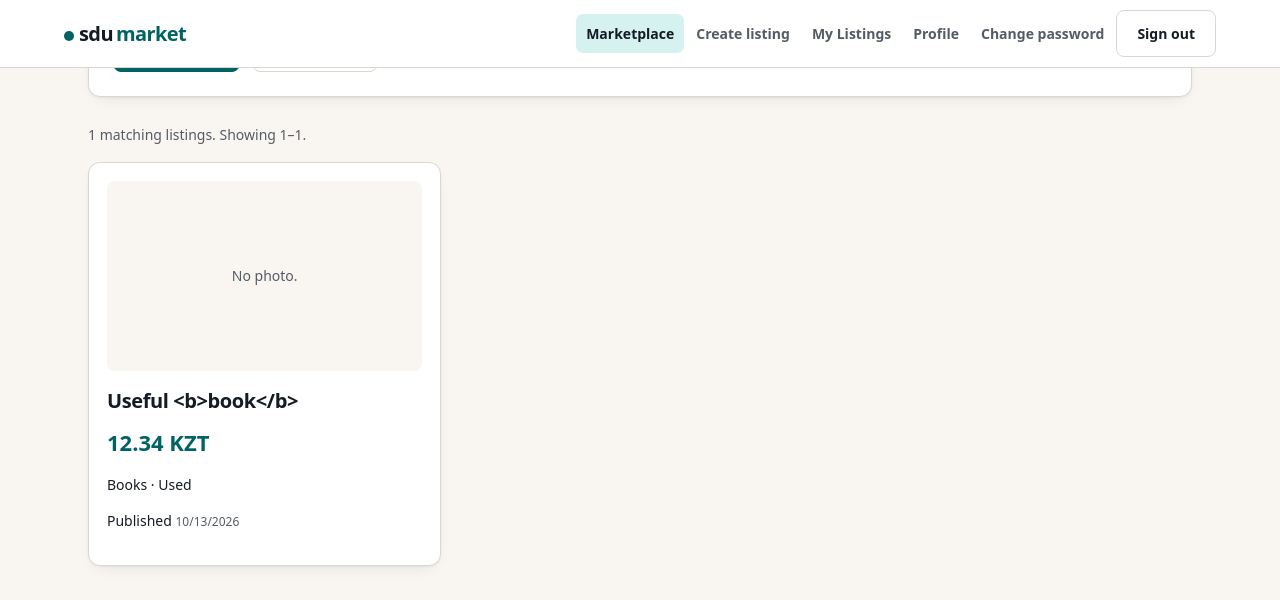
Scenario: marketplace title opens genuine protected details
The image size is (1280, 600).
(page scrolled)
Step 1. Click the link "Useful <b>book</b>" → click(202, 400), box [107,387,298,414]
(page scrolled)
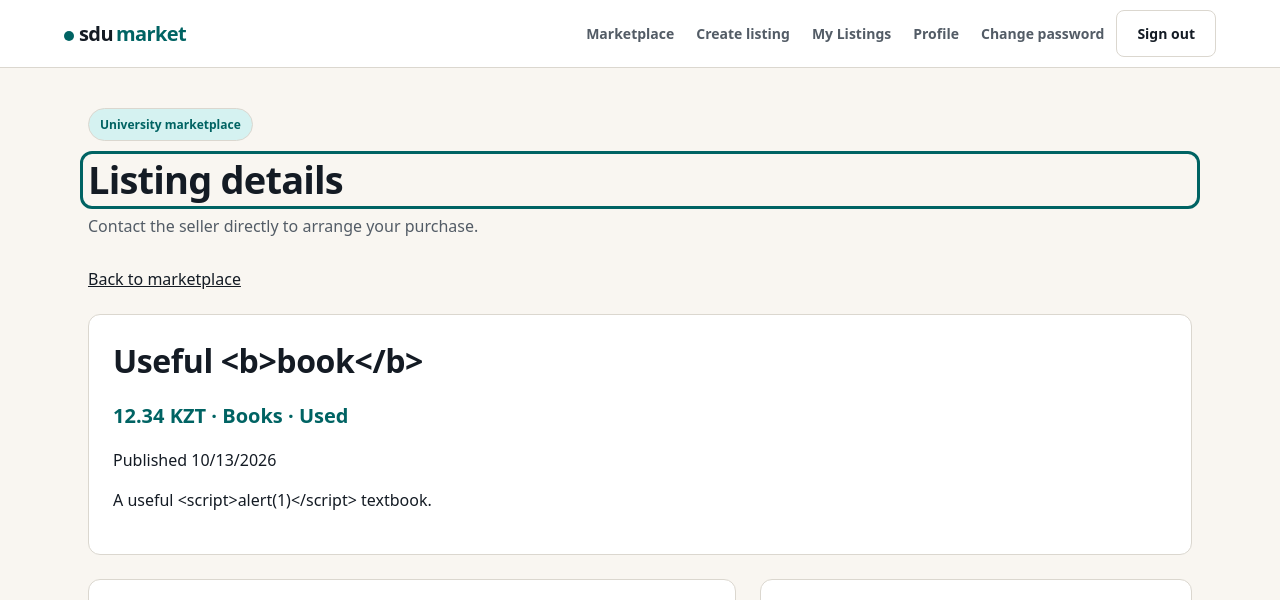
Expected: the heading "Listing details" is shown, [88,153,343,205]
Expected: the text "A useful <script>alert(1)</script> textbook." is shown, [113,489,432,511]
